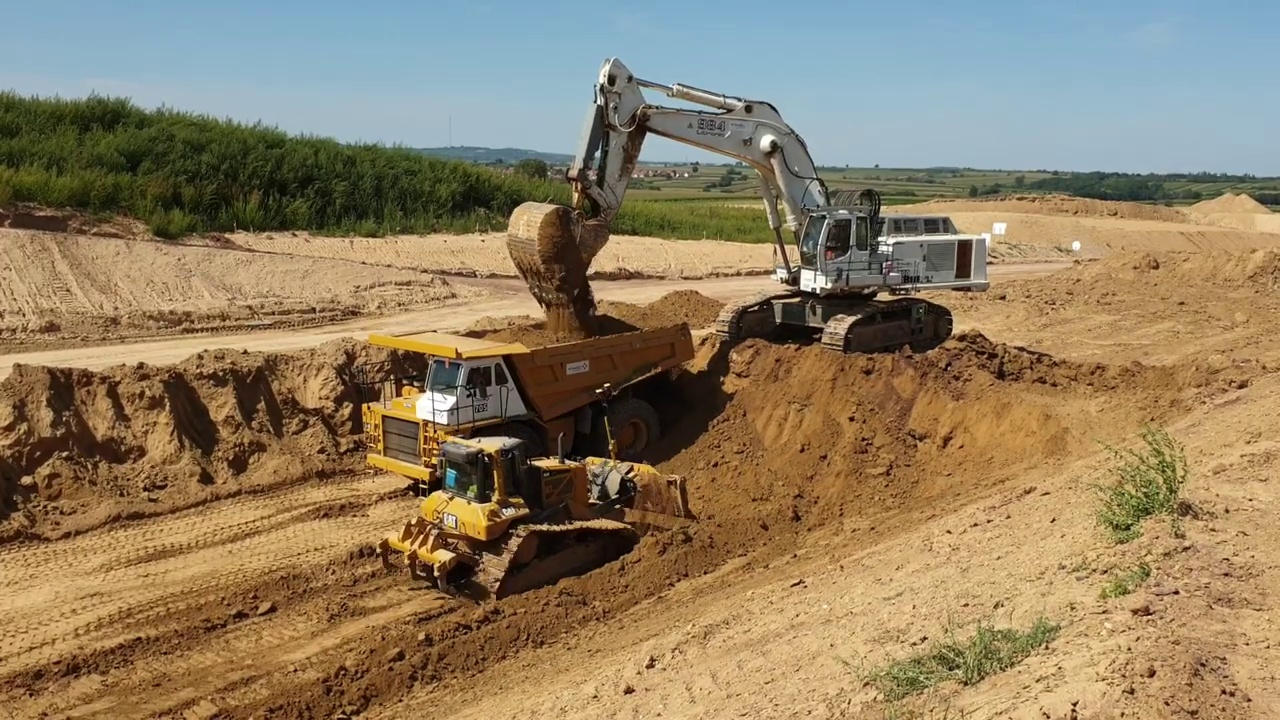bulldozer: (374, 383, 695, 602)
excavator: (505, 51, 994, 361)
truck: (350, 310, 704, 506)
